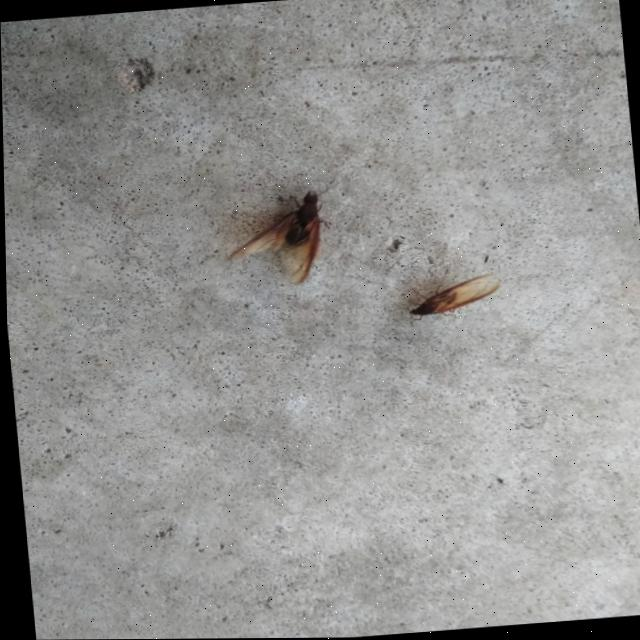Alive-Female-Alate: (222, 187, 334, 288)
Alive-Male-Alate: (392, 264, 503, 323)
